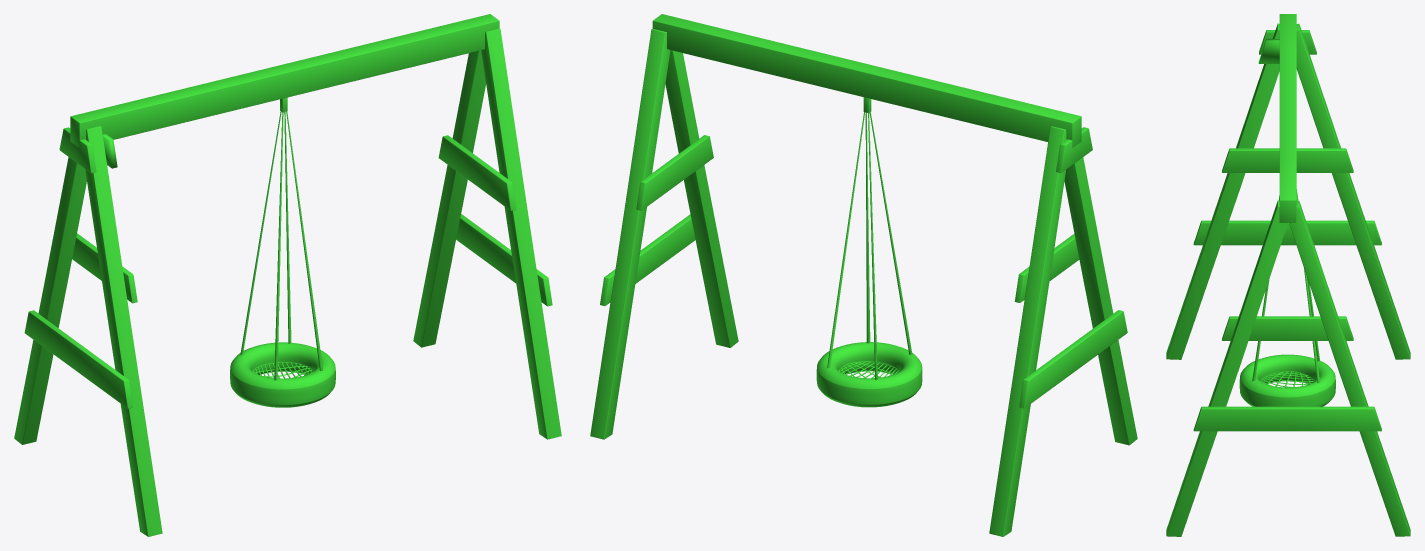
The model's file is tireswing.glb.
The picture shows the model from 3 angles, left to right: view 1: azimuth 30°, elevation 25°; view 2: azimuth 150°, elevation 25°; view 3: azimuth 270°, elevation 25°; orthographic projection. The views are drawn at different scales.
Parts seen in each view (by area): view 1: Frame; view 2: Frame; view 3: Frame.
Boxes of the visible parts, x1,y1,x2,y2 form: Frame: [14, 14, 561, 536]; Frame: [590, 14, 1137, 536]; Frame: [1166, 14, 1410, 536].
Bounding box in the file's own units: 0.3033 × 0.2521 × 0.1657.
